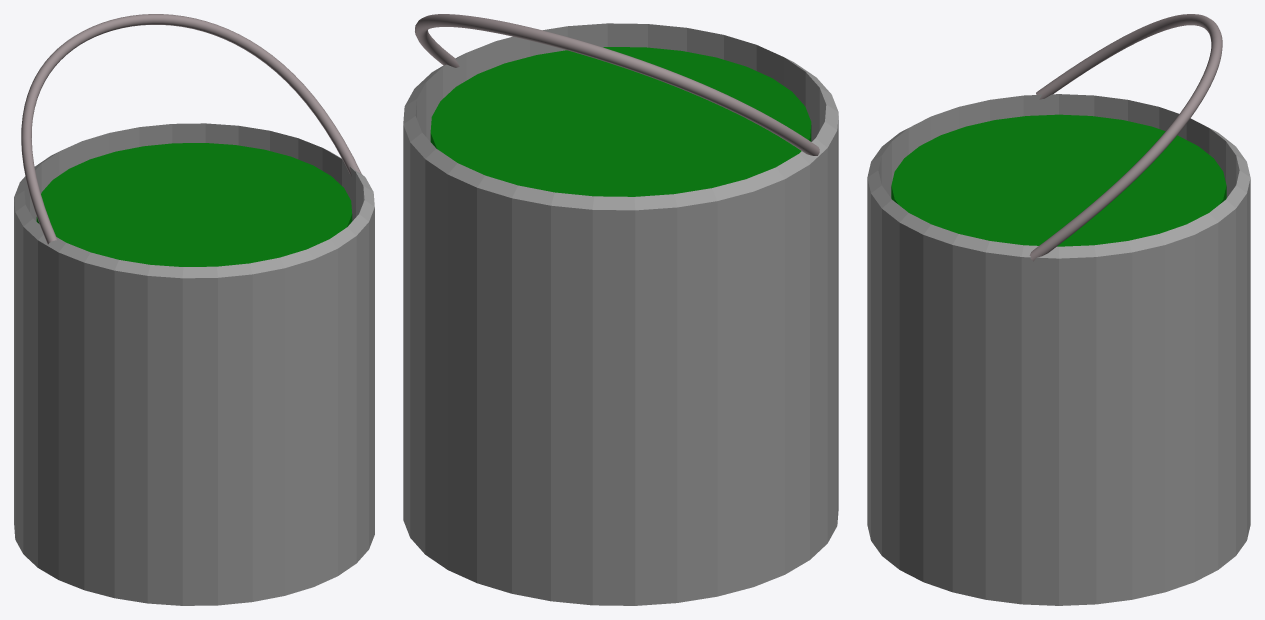
Rendered from BucketGreen.fbx.
3 renders of one model, left to right at view 1: azimuth 30°, elevation 25°; view 2: azimuth 150°, elevation 25°; view 3: azimuth 270°, elevation 25°, orthographic. The views are drawn at different scales.
Parts seen in each view (by area): view 1: BucketGreen, BucketGreenPaint, BucketGreenHandle; view 2: BucketGreen, BucketGreenPaint, BucketGreenHandle; view 3: BucketGreen, BucketGreenPaint, BucketGreenHandle.
Part boxes in pixels (x1=…): BucketGreen: x1=14, y1=123, x2=374, y2=605; BucketGreenPaint: x1=36, y1=143, x2=352, y2=266; BucketGreenHandle: x1=21, y1=14, x2=361, y2=244; BucketGreen: x1=403, y1=23, x2=838, y2=605; BucketGreenPaint: x1=430, y1=47, x2=811, y2=196; BucketGreenHandle: x1=415, y1=14, x2=819, y2=155; BucketGreen: x1=867, y1=94, x2=1250, y2=605; BucketGreenPaint: x1=891, y1=114, x2=1226, y2=246; BucketGreenHandle: x1=1029, y1=14, x2=1222, y2=261.
Size of the model in its own units: 37.32 by 37.32 by 52.03.
